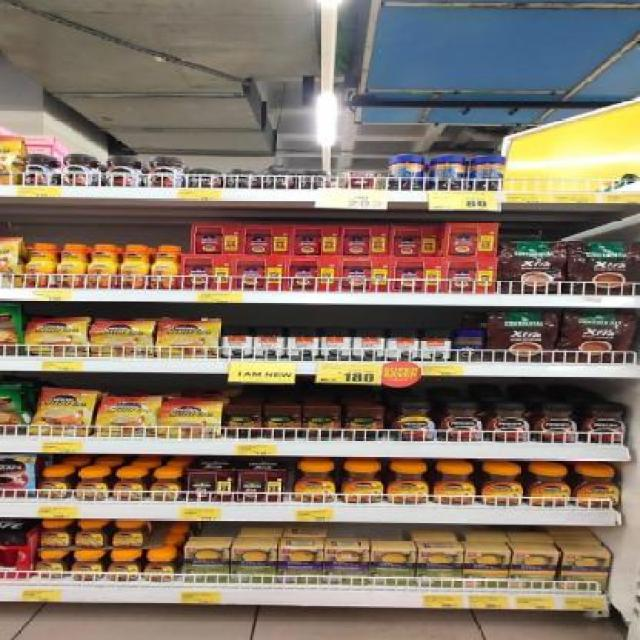Coffee: (34, 389, 92, 436), (158, 320, 218, 358), (89, 321, 151, 357), (98, 398, 156, 436), (162, 402, 220, 438), (27, 320, 85, 354), (478, 469, 527, 505), (532, 405, 578, 443), (438, 404, 484, 441), (580, 406, 626, 443), (486, 404, 530, 442), (387, 468, 433, 503), (574, 471, 618, 507), (292, 468, 336, 503), (433, 468, 476, 503), (342, 468, 386, 502), (528, 471, 570, 506), (24, 244, 56, 288), (150, 245, 180, 288), (88, 244, 117, 287), (58, 153, 98, 184), (122, 244, 149, 288), (102, 156, 141, 186), (58, 244, 85, 287), (146, 156, 183, 187), (21, 153, 56, 184), (149, 472, 183, 500), (114, 471, 146, 500), (36, 471, 70, 498), (38, 522, 70, 549), (108, 554, 140, 580), (35, 552, 65, 579), (144, 555, 174, 582), (77, 471, 106, 498), (71, 554, 101, 580), (74, 522, 103, 548), (112, 522, 142, 547), (295, 170, 330, 188), (190, 169, 221, 188), (260, 170, 292, 188), (225, 170, 257, 187)
